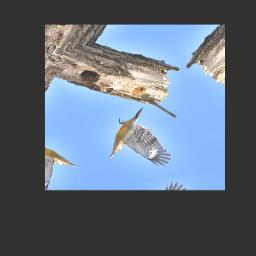Woodpecker: (91, 105, 176, 179)
